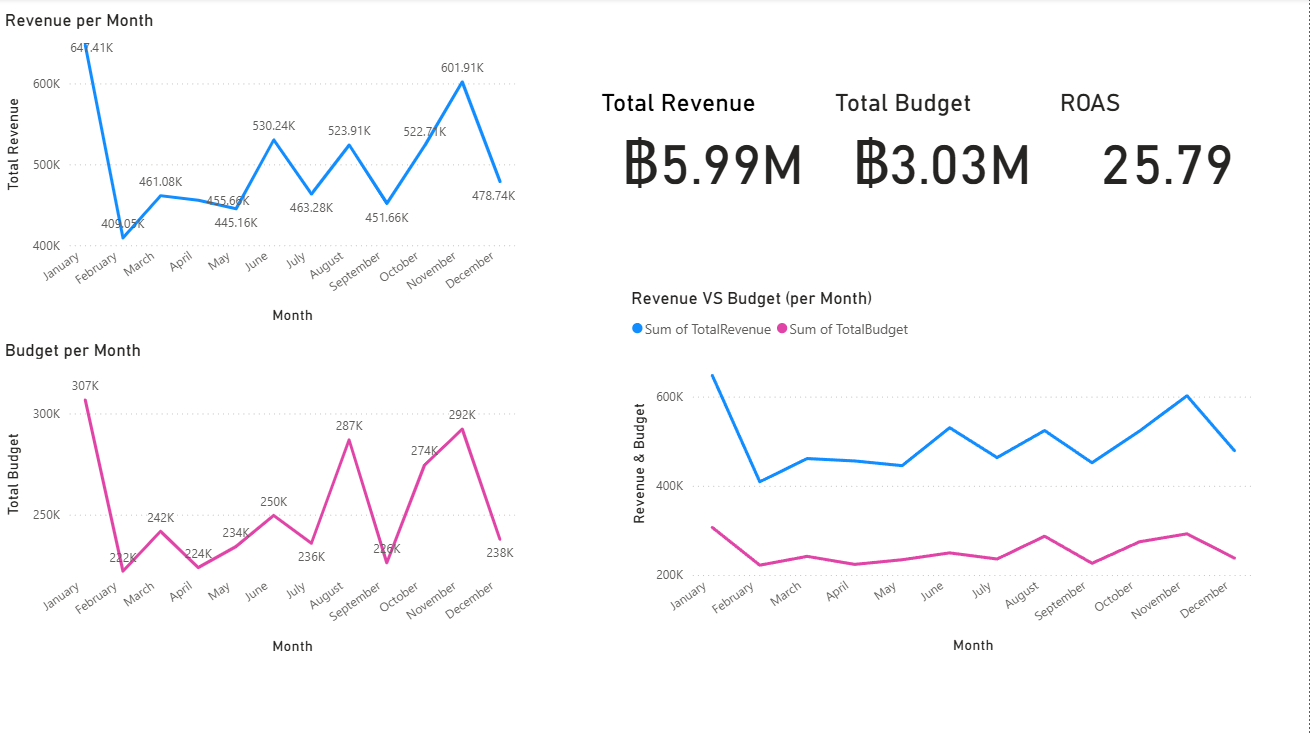

What the dashboard file says about the page in this screenshot:
{"tool":"powerbi","page":{"name":"Revenue VS Budget","canvas":[1280,720],"ordinal":0},"visuals":[{"type":"lineChart","title":"Revenue per Month","fields":{"Category":["Monthly_Trend_Permanent.Month.Variation.Date Hierarchy.Month"],"Y":["Sum(Monthly_Trend_Permanent.TotalRevenue)"]},"box":[0,11,509.1,312.9],"z":0},{"type":"lineChart","title":"Budget per Month","fields":{"Category":["Monthly_Trend_Permanent.Month.Variation.Date Hierarchy.Month"],"Y":["Sum(Monthly_Trend_Permanent.TotalBudget)"]},"box":[0,334,509,313],"z":1000},{"type":"lineChart","title":"Revenue VS Budget (per Month)","fields":{"Category":["Monthly_Trend_Permanent.Month.Variation.Date Hierarchy.Month"],"Y":["Sum(Monthly_Trend_Permanent.TotalRevenue)","Sum(Monthly_Trend_Permanent.TotalBudget)"]},"box":[612.5,283.8,618.8,362.5],"z":2000},{"type":"card","title":"Total Revenue","fields":{"Values":["Sum(Monthly_Trend_Permanent.TotalRevenue)"]},"box":[583.8,87.5,228.8,108.8],"z":3000},{"type":"card","title":"Total Budget","fields":{"Values":["Sum(Monthly_Trend_Permanent.TotalBudget)"]},"box":[812.5,87.5,220,108.8],"z":4000},{"type":"card","title":"ROAS","fields":{"Values":["Sum(Monthly_Trend_Permanent.ROAS)"]},"box":[1032.5,87.5,220,108.8],"z":5000}]}

Visuals, with their boxes in screenshot pixels (x1, y1, x2, y2), scaled from the page's 1280x720 canvas onto the 1310x734 screenshot:
"Revenue per Month" lineChart: region(0, 11, 521, 330)
"Budget per Month" lineChart: region(0, 340, 521, 660)
"Revenue VS Budget (per Month)" lineChart: region(627, 289, 1260, 659)
"Total Revenue" card: region(597, 89, 832, 200)
"Total Budget" card: region(832, 89, 1057, 200)
"ROAS" card: region(1057, 89, 1282, 200)
